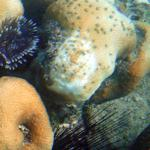dead: (3, 4, 143, 147)
